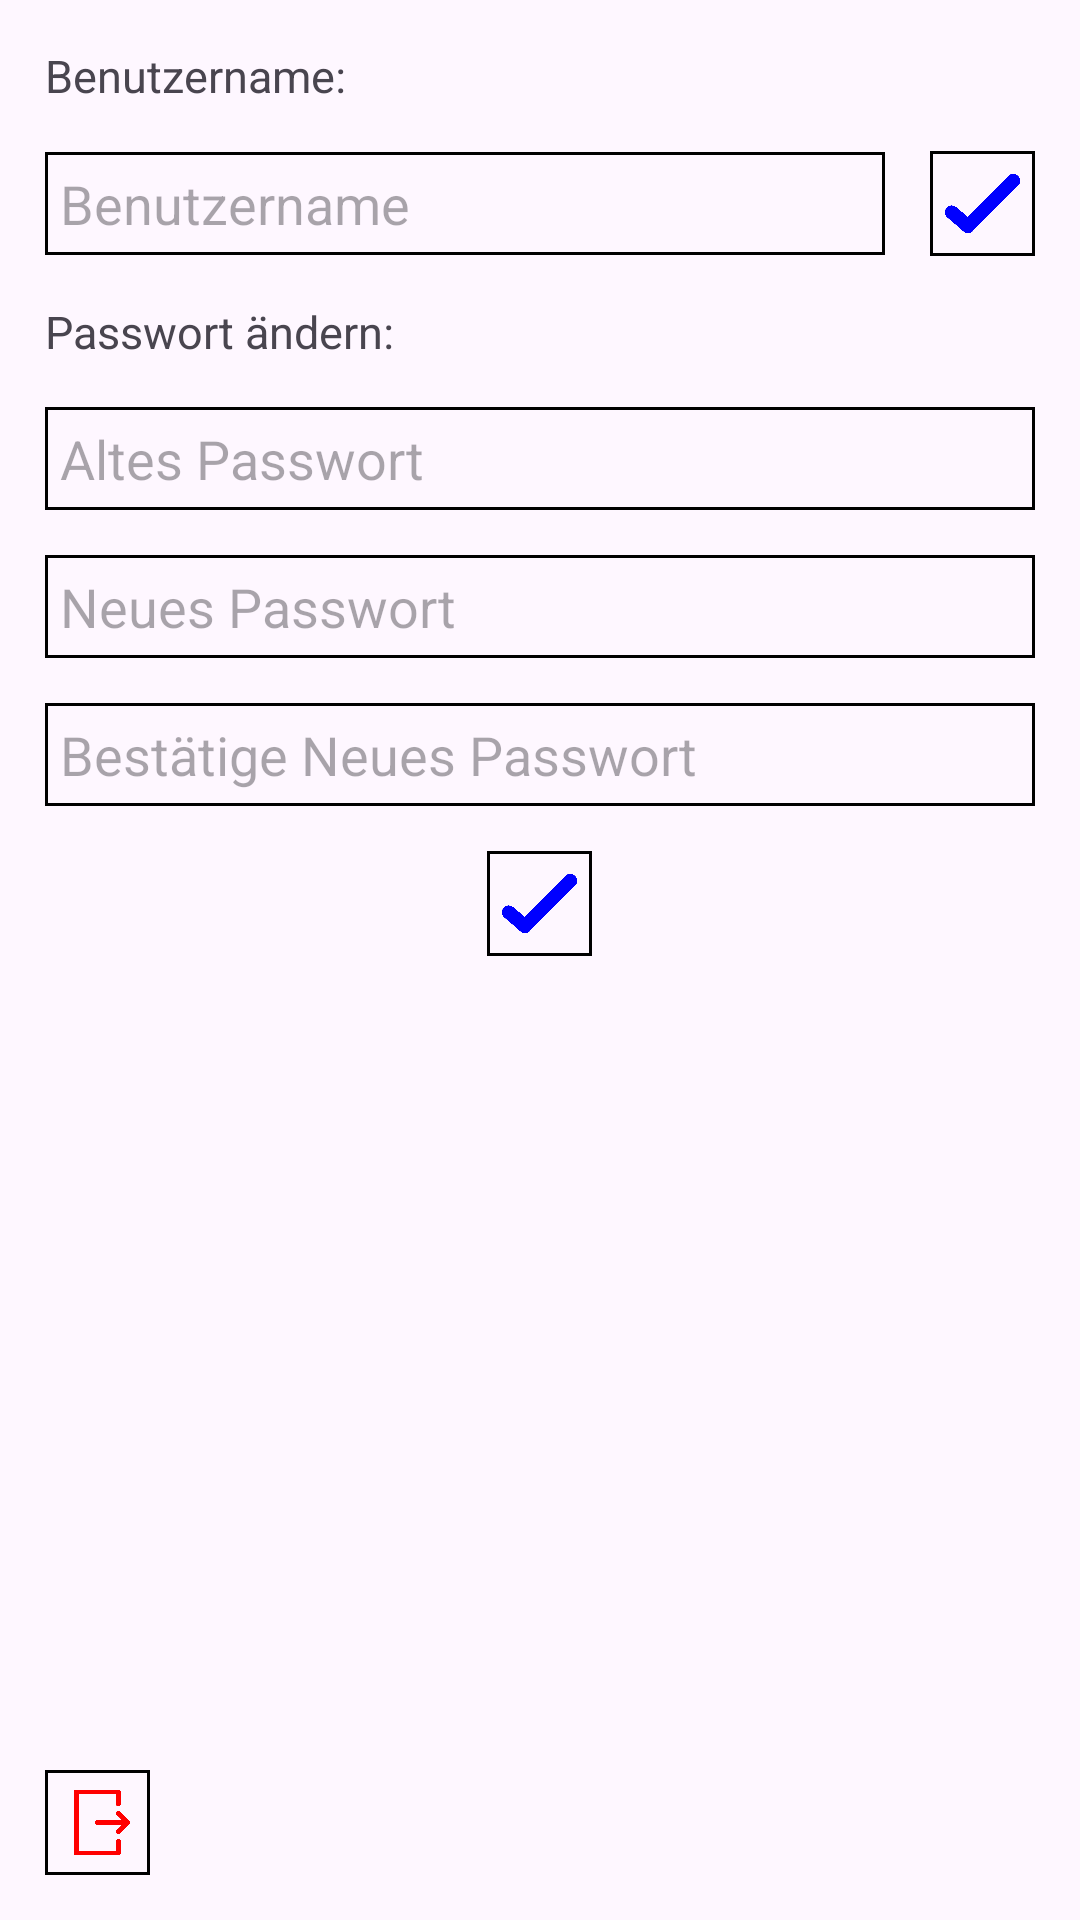

Point at icon controls on the screen. Image size 1080 x 1920, points as point (x, y).
check: point (982, 203), point (539, 903)
